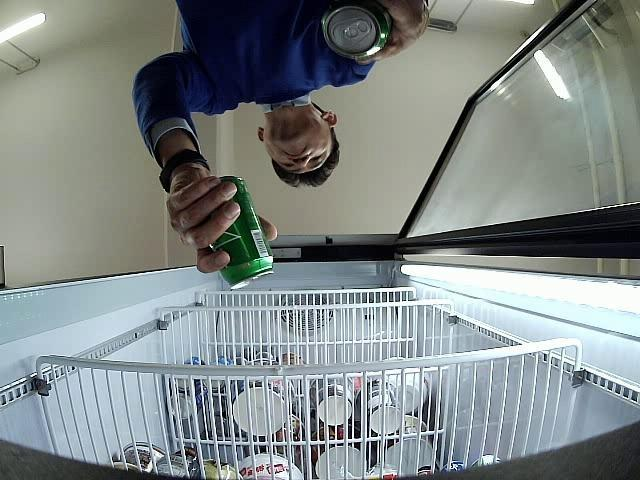12_chilsungCider: (207, 177, 275, 290), (322, 0, 393, 61)
